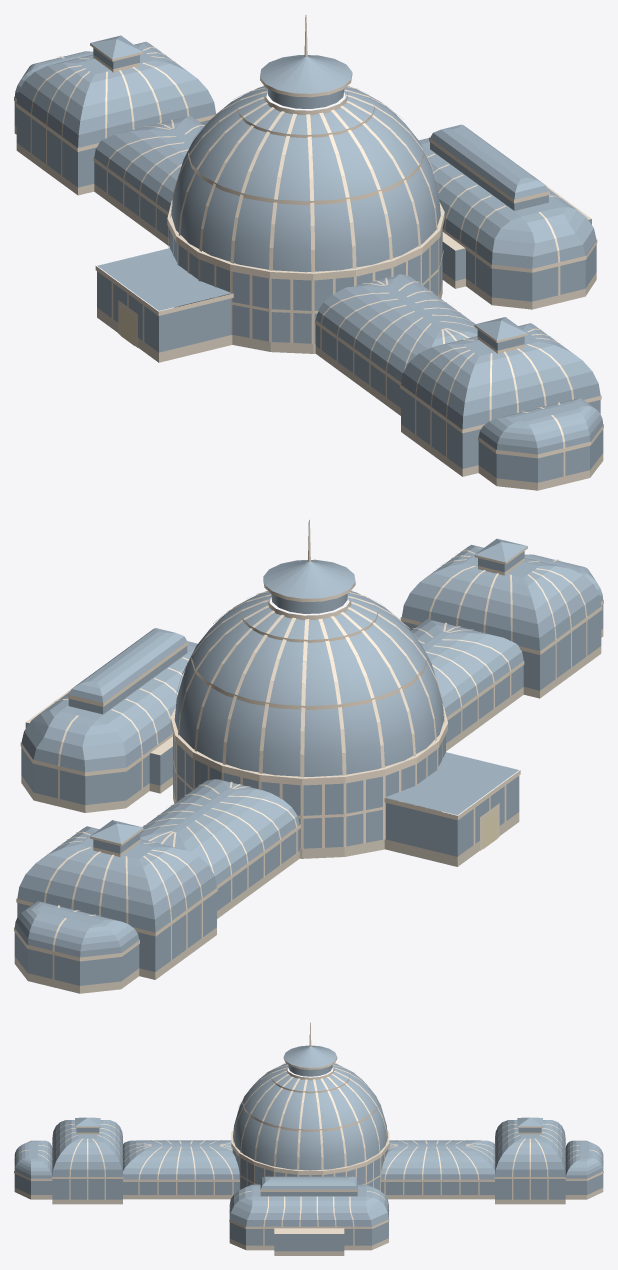
File: det-belle-isle-conservatory.glb
3 renders of one model, top to bottom at view 1: azimuth 30°, elevation 25°; view 2: azimuth 150°, elevation 25°; view 3: azimuth 270°, elevation 25°, orthographic. The views are drawn at different scales.
Visible parts, largest first — view 1: Anna Scripps Whitcomb Conservatory; view 2: Anna Scripps Whitcomb Conservatory; view 3: Anna Scripps Whitcomb Conservatory.
Part boxes in pixels (left/top/right/bottom): Anna Scripps Whitcomb Conservatory: left=14, top=14, right=603, bottom=490; Anna Scripps Whitcomb Conservatory: left=14, top=519, right=603, bottom=993; Anna Scripps Whitcomb Conservatory: left=14, top=1022, right=603, bottom=1255.
Bounding box in the file's own units: 40.35 × 25.05 × 82.54.
